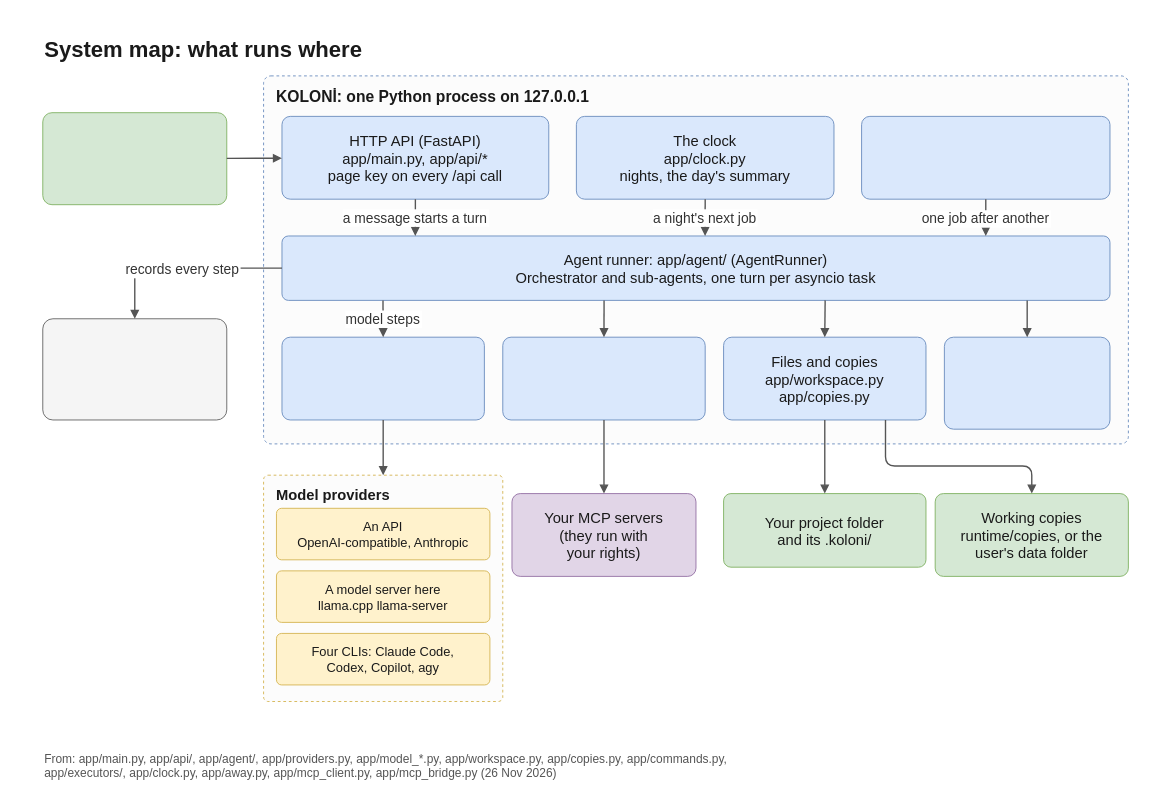
The diagram is 1171 pixels wide and 803 high, and some of its shapes have lost their labels. Each missing label, with the centre of its shape:
"Commands app/commands.py executors/: here or in Docker" belongs at (x=1026, y=382).
"MCP app/mcp_client.py app/mcp_bridge.py" belongs at (x=603, y=378).
"Model clients app/providers.py app/model_*.py" belongs at (x=382, y=378).
"SQLite database runtime/data chats, agents, memory, settings, keys" belongs at (x=134, y=369).
"While away app/away.py jobs while you are away" belongs at (x=985, y=157).
"Your browser the KOLONİ page (React, frontend/) HTTP and events" belongs at (x=134, y=158).
